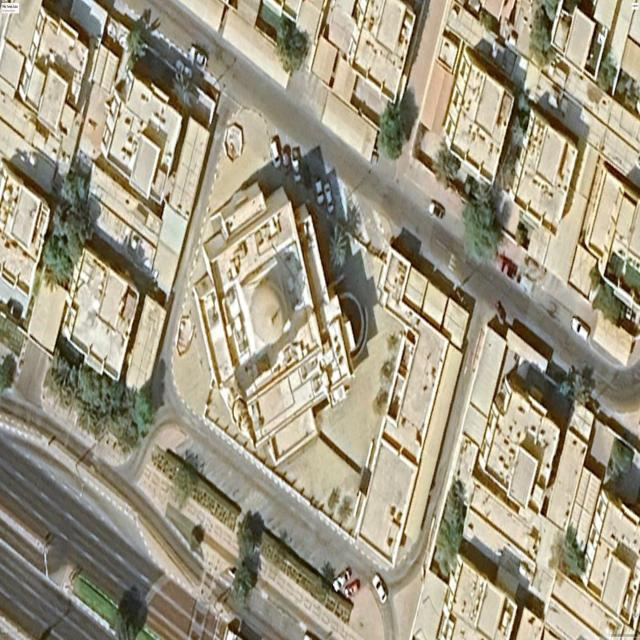mosque: (195, 182, 352, 467)
